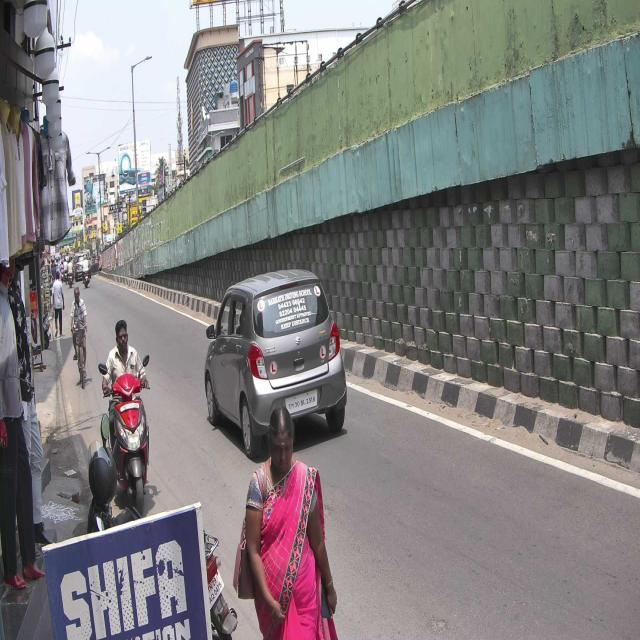single_rider: (103, 316, 152, 518)
